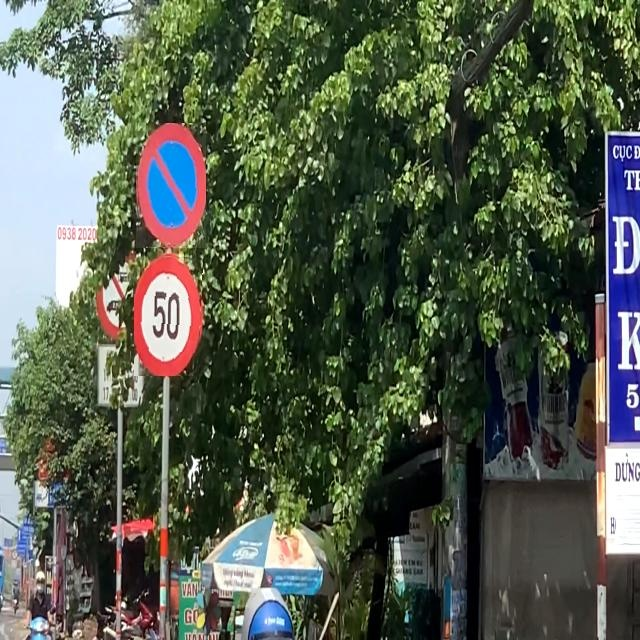bien_cam: (136, 123, 206, 248), (134, 253, 203, 376)
